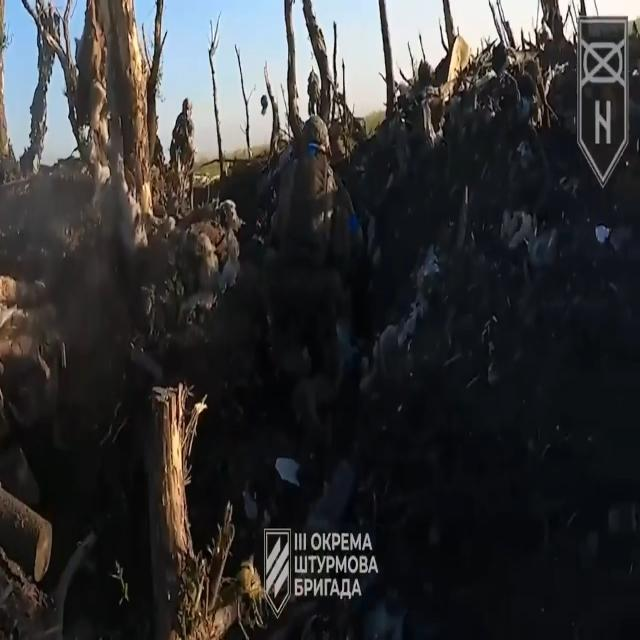MIL_Pax: (265, 116, 359, 401), (170, 98, 195, 216), (308, 69, 321, 116)
